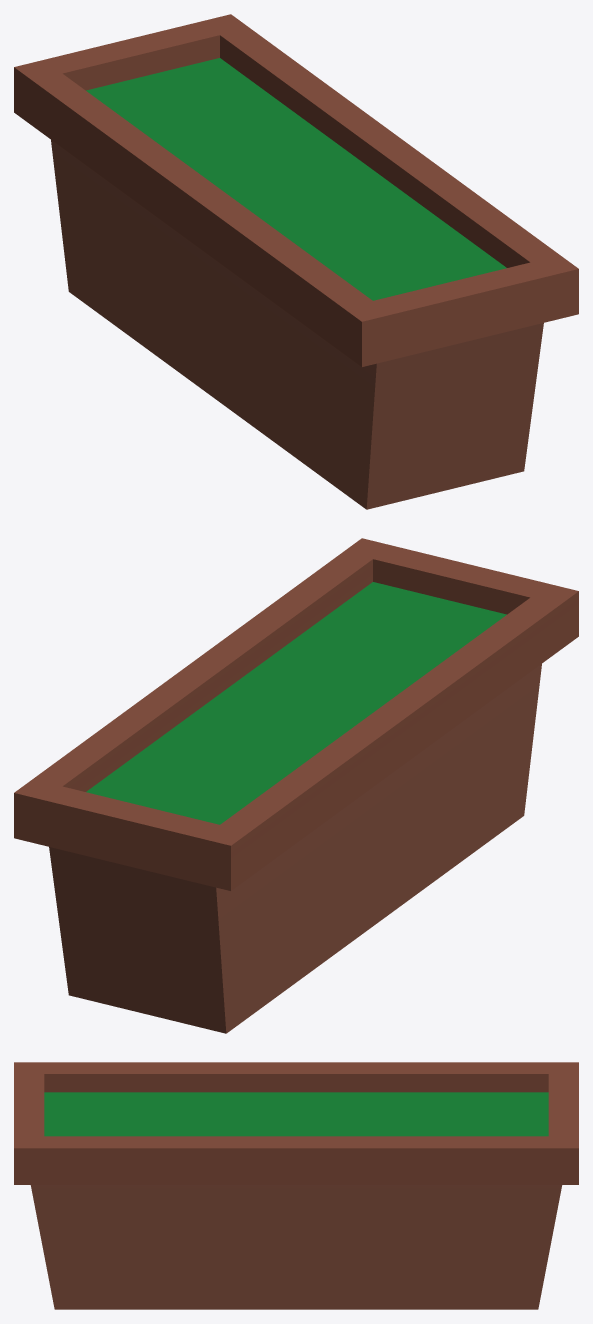
The model's file is FlowerPot_5_2_G.fbx.
3 views of the same model, one above another, from view 1: azimuth 30°, elevation 25°; view 2: azimuth 150°, elevation 25°; view 3: azimuth 270°, elevation 25° (orthographic). The views are drawn at different scales.
Parts seen in each view (by area): view 1: FlowerPot_5_2_G; view 2: FlowerPot_5_2_G; view 3: FlowerPot_5_2_G.
Boxes of the visible parts, x1=… form: FlowerPot_5_2_G: x1=14, y1=14, x2=578, y2=509; FlowerPot_5_2_G: x1=14, y1=538, x2=578, y2=1033; FlowerPot_5_2_G: x1=14, y1=1062, x2=578, y2=1309.
Size of the model in its own units: 32.46 by 30.52 by 90.14.
